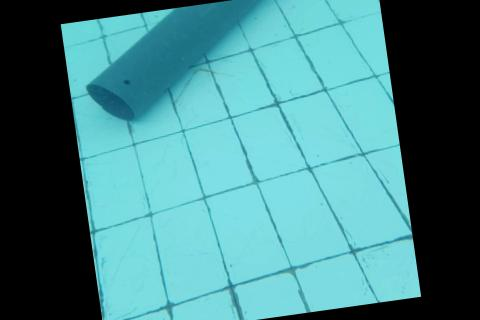kebocoran: (121, 77, 129, 85)
